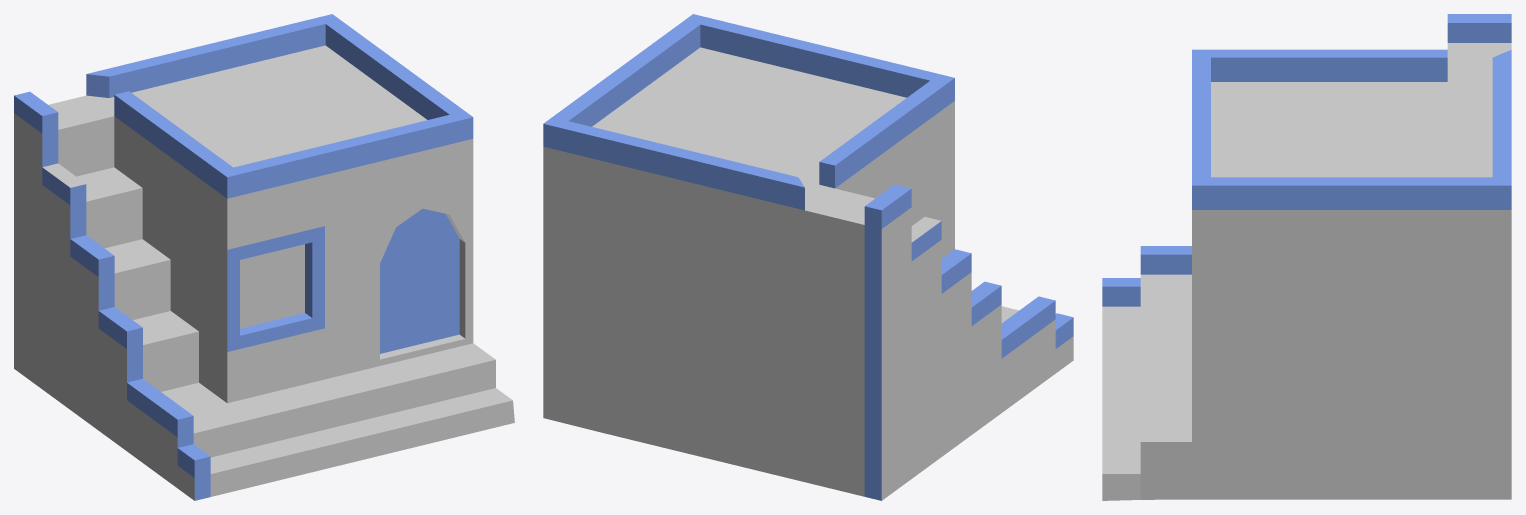
File: Santorini_house4 1.fbx
3 renders of one model, left to right at view 1: azimuth 30°, elevation 25°; view 2: azimuth 150°, elevation 25°; view 3: azimuth 270°, elevation 25°, orthographic. The views are drawn at different scales.
Visible parts, largest first — view 1: pCube6; view 2: pCube6; view 3: pCube6.
Part boxes in pixels (<box>): pCube6: <box>14,14,514,500</box>; pCube6: <box>543,14,1073,500</box>; pCube6: <box>1102,14,1511,500</box>.
Size of the model in its own units: 10.37 by 8.57 by 10.13.
